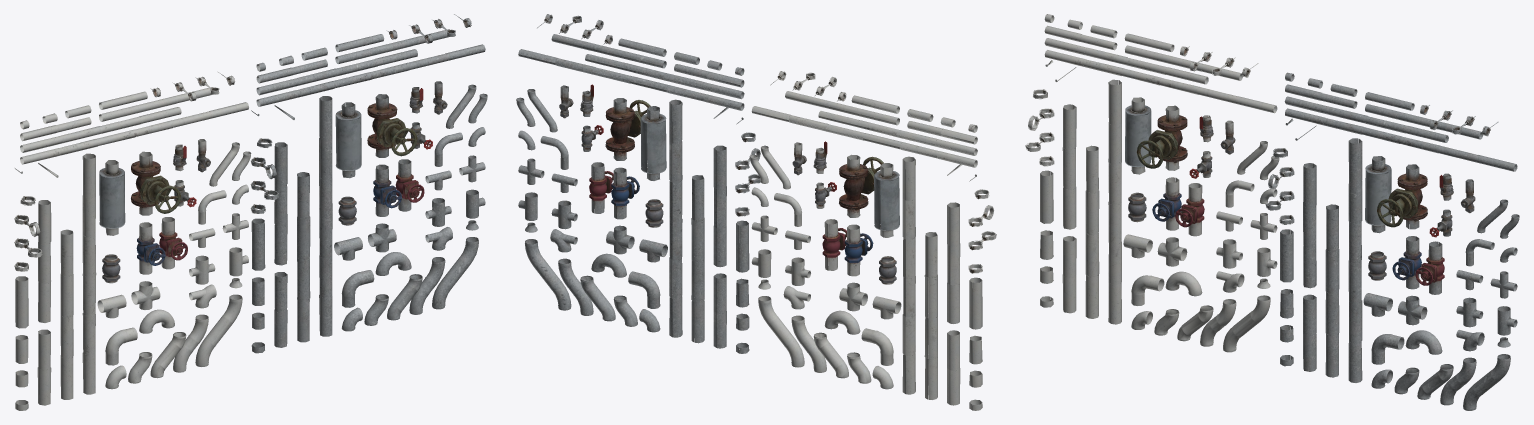
Rendered from modular_pipes.glb.
3 views of the same model, side by side, from view 1: azimuth 30°, elevation 25°; view 2: azimuth 150°, elevation 25°; view 3: azimuth 330°, elevation 25° (orthographic). The views are drawn at different scales.
Visible parts, largest first — view 1: pipe_200cm_metal, pipe_200cm_pvc, pipe_140cm_pvc, pipe_140cm_metal, pipe_thin_200cm_metal, pipe_thin_200cm_pvc, pipe_valve_large_pvc, pipe_valve_large_metal, pipe_chamber_large_metal, pipe_chamber_large_pvc, pipe_100cm_metal, pipe_100cm_pvc (+35 smaller); view 2: pipe_200cm_metal, pipe_200cm_pvc, pipe_140cm_metal, pipe_140cm_pvc, pipe_thin_200cm_pvc, pipe_thin_200cm_metal, pipe_chamber_large_pvc, pipe_chamber_large_metal, pipe_valve_large_pvc, pipe_valve_large_metal, pipe_100cm_metal, pipe_100cm_pvc (+34 smaller); view 3: pipe_200cm_metal, pipe_200cm_pvc, pipe_140cm_metal, pipe_140cm_pvc, pipe_thin_200cm_metal, pipe_thin_200cm_pvc, pipe_valve_large_metal, pipe_valve_large_pvc, pipe_100cm_metal, pipe_100cm_pvc, pipe_chamber_large_metal, pipe_chamber_large_pvc (+34 smaller).
Boxes of the visible parts, bbox=[...] form: pipe_200cm_metal: bbox=[319, 96, 332, 336]; pipe_200cm_pvc: bbox=[82, 153, 96, 394]; pipe_140cm_pvc: bbox=[60, 229, 73, 399]; pipe_140cm_metal: bbox=[297, 172, 310, 342]; pipe_thin_200cm_metal: bbox=[256, 44, 485, 106]; pipe_thin_200cm_pvc: bbox=[20, 102, 248, 164]; pipe_valve_large_pvc: bbox=[131, 151, 180, 215]; pipe_valve_large_metal: bbox=[367, 94, 417, 157]; pipe_chamber_large_metal: bbox=[335, 102, 361, 178]; pipe_chamber_large_pvc: bbox=[99, 160, 125, 235]; pipe_100cm_metal: bbox=[274, 142, 287, 265]; pipe_100cm_pvc: bbox=[38, 200, 51, 322]; pipe_200cm_metal: bbox=[669, 99, 682, 337]; pipe_200cm_pvc: bbox=[902, 156, 915, 394]; pipe_140cm_metal: bbox=[691, 175, 704, 343]; pipe_140cm_pvc: bbox=[924, 232, 937, 399]; pipe_thin_200cm_pvc: bbox=[751, 106, 977, 167]; pipe_thin_200cm_metal: bbox=[518, 49, 744, 110]; pipe_chamber_large_pvc: bbox=[874, 163, 899, 237]; pipe_chamber_large_metal: bbox=[640, 106, 666, 180]; pipe_valve_large_pvc: bbox=[839, 154, 883, 217]; pipe_valve_large_metal: bbox=[605, 98, 650, 160]; pipe_100cm_metal: bbox=[713, 145, 726, 267]; pipe_100cm_pvc: bbox=[947, 202, 960, 323]; pipe_200cm_metal: bbox=[1348, 138, 1362, 382]; pipe_200cm_pvc: bbox=[1108, 79, 1121, 324]; pipe_140cm_metal: bbox=[1325, 204, 1339, 377]; pipe_140cm_pvc: bbox=[1085, 145, 1099, 318]; pipe_thin_200cm_metal: bbox=[1285, 108, 1517, 171]; pipe_thin_200cm_pvc: bbox=[1044, 50, 1277, 113]; pipe_valve_large_metal: bbox=[1377, 164, 1427, 229]; pipe_valve_large_pvc: bbox=[1136, 105, 1187, 170]; pipe_100cm_metal: bbox=[1303, 163, 1316, 288]; pipe_100cm_pvc: bbox=[1062, 104, 1076, 229]; pipe_chamber_large_metal: bbox=[1365, 156, 1391, 233]; pipe_chamber_large_pvc: bbox=[1125, 97, 1151, 174].
Bounding box in the file's own units: 4.19 × 2.44 × 0.4613.
Materials: 2 (2 with a texture image).
